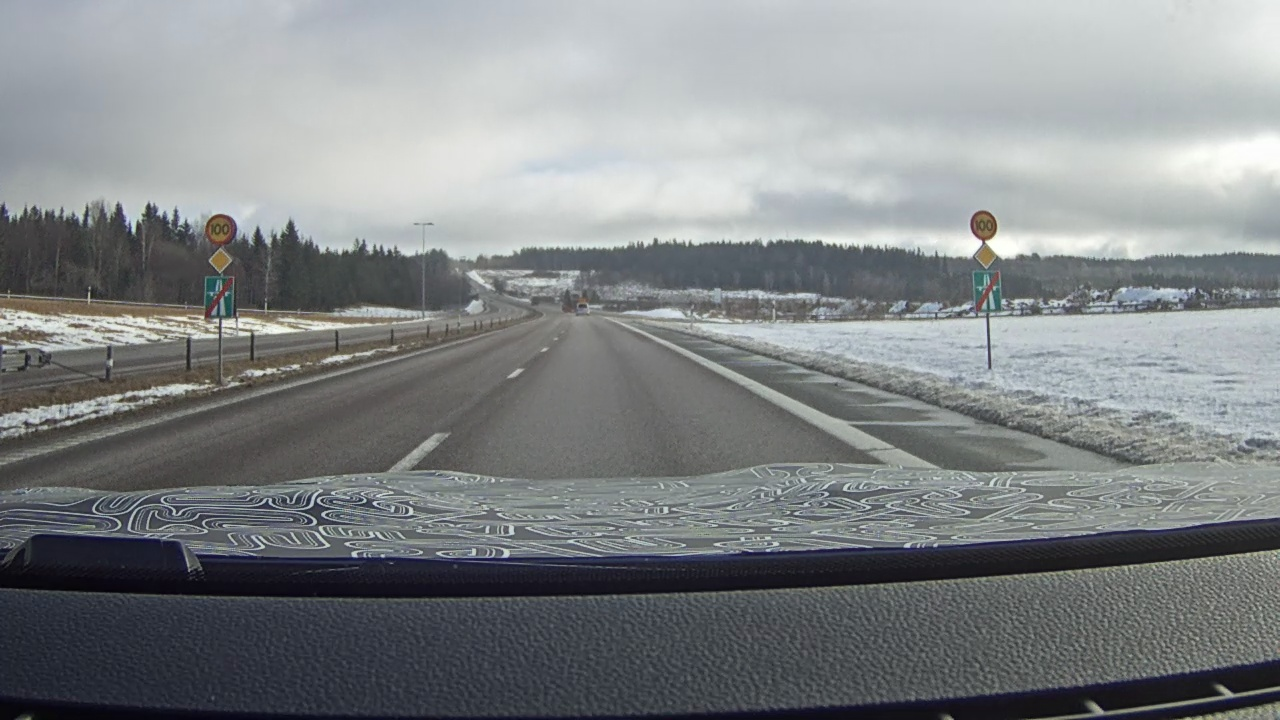Regular_End_Of_Motorway: (971, 268, 1003, 314)
